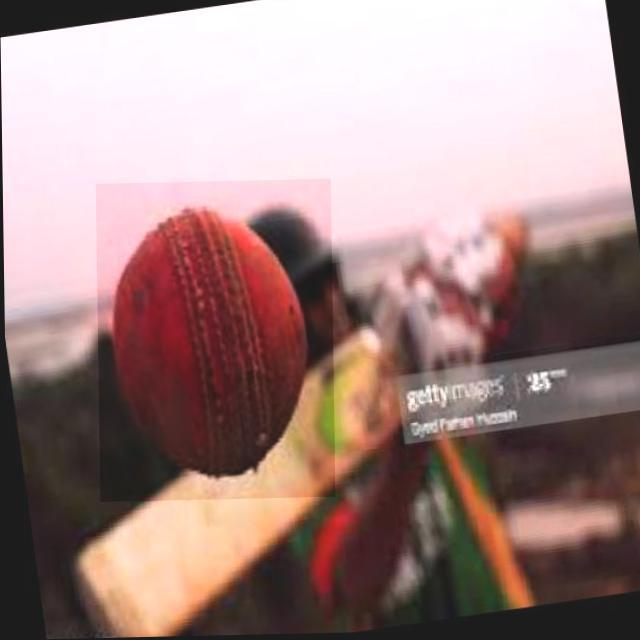-: (95, 180, 334, 502)
